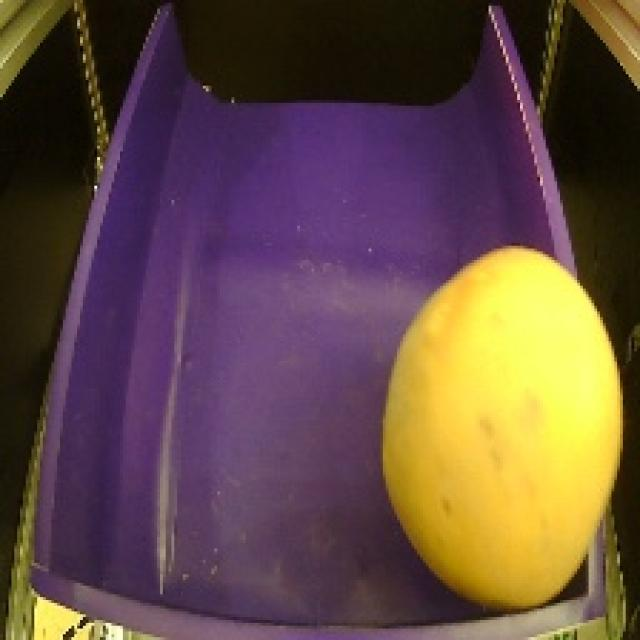full_potato: (366, 237, 628, 616)
